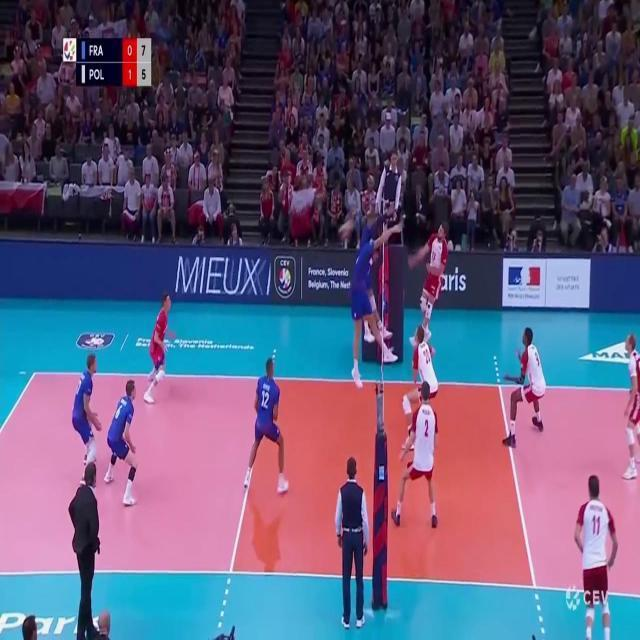volleyball: (338, 216, 355, 240)
